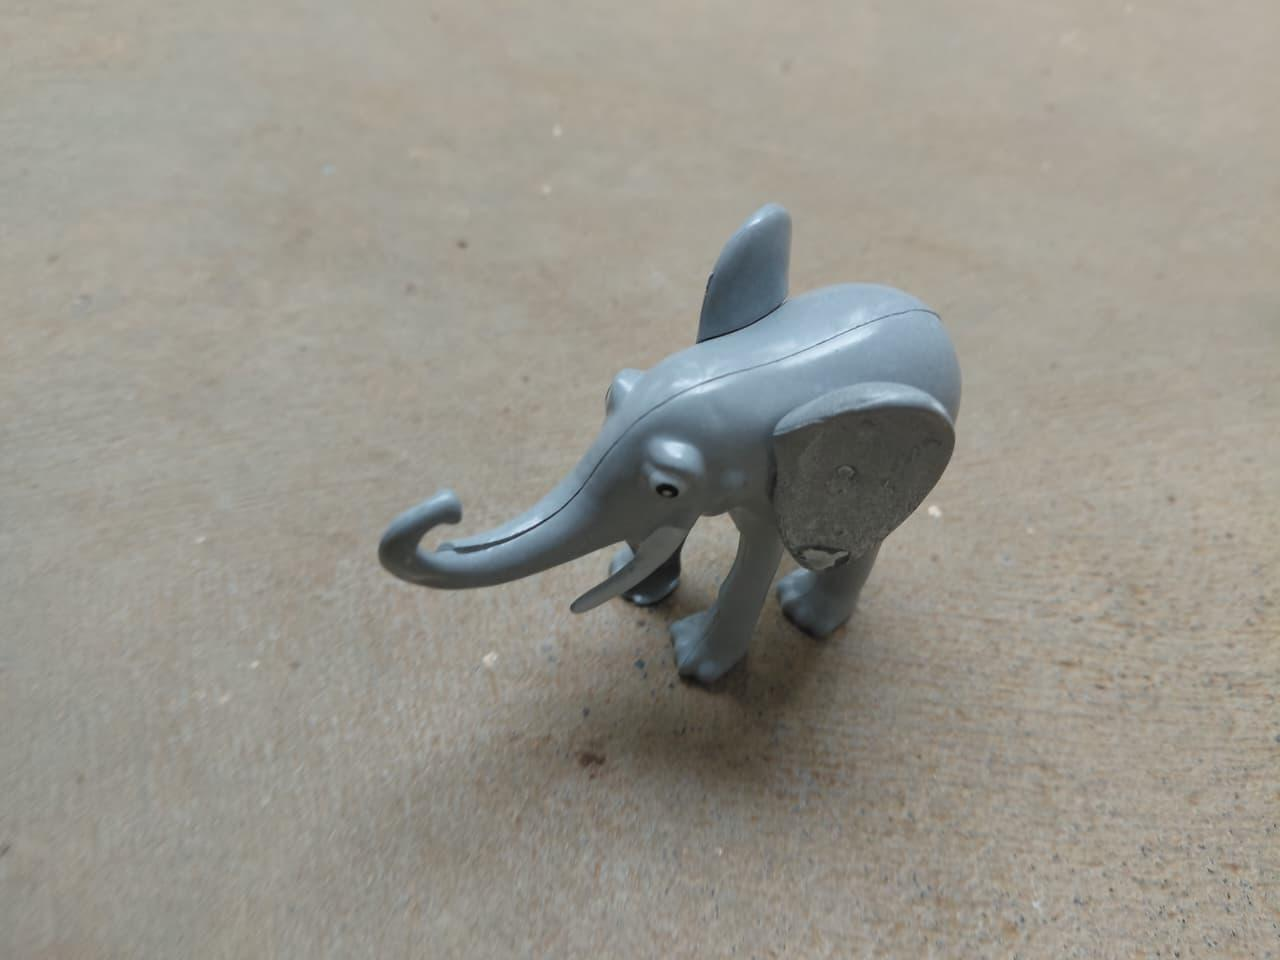elephant: (370, 195, 972, 698)
